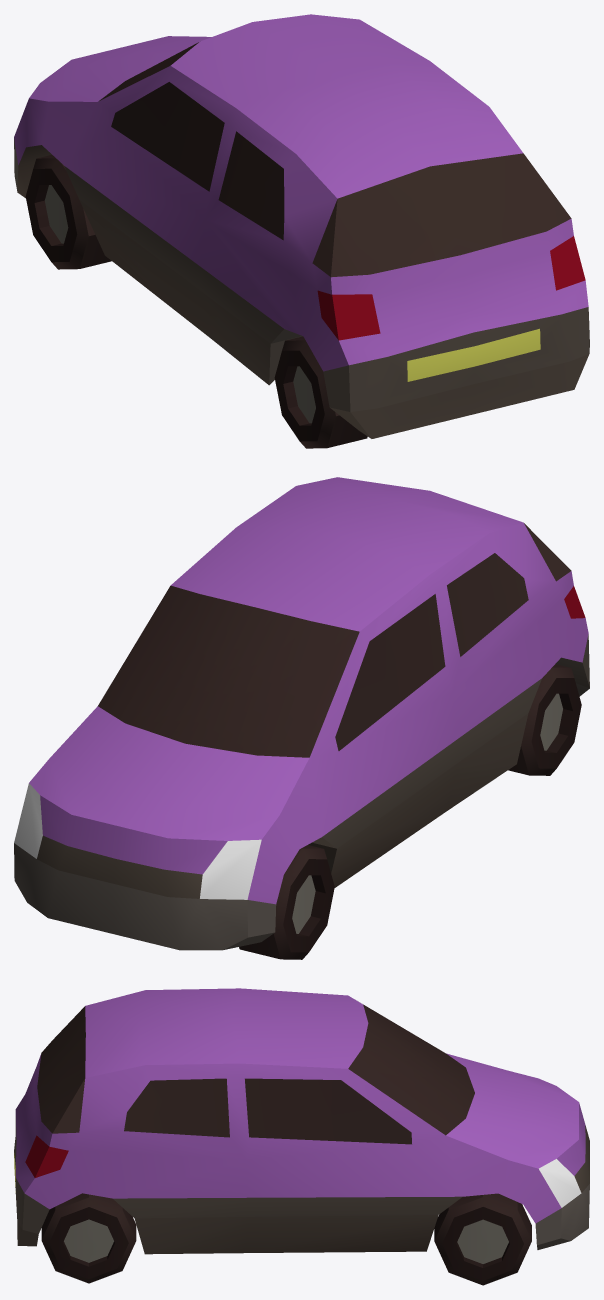
Rendered from carModel4.obj.
3 views of the same model, one above another, from view 1: azimuth 30°, elevation 25°; view 2: azimuth 150°, elevation 25°; view 3: azimuth 270°, elevation 25° (orthographic). The views are drawn at different scales.
Visible parts, largest first — view 1: Car_Carrosserie, Car_Base; view 2: Car_Carrosserie, Car_Base; view 3: Car_Carrosserie, Car_Base.
Part boxes in pixels (x1,y1,x2,y2): Car_Carrosserie: [14, 14, 588, 371]; Car_Base: [14, 42, 589, 448]; Car_Carrosserie: [29, 477, 588, 904]; Car_Base: [14, 523, 589, 959]; Car_Carrosserie: [15, 988, 585, 1223]; Car_Base: [14, 1004, 589, 1285].
Size of the model in its own units: 1.94 by 1.98 by 4.67.
Materials: 3 (3 with a texture image).
